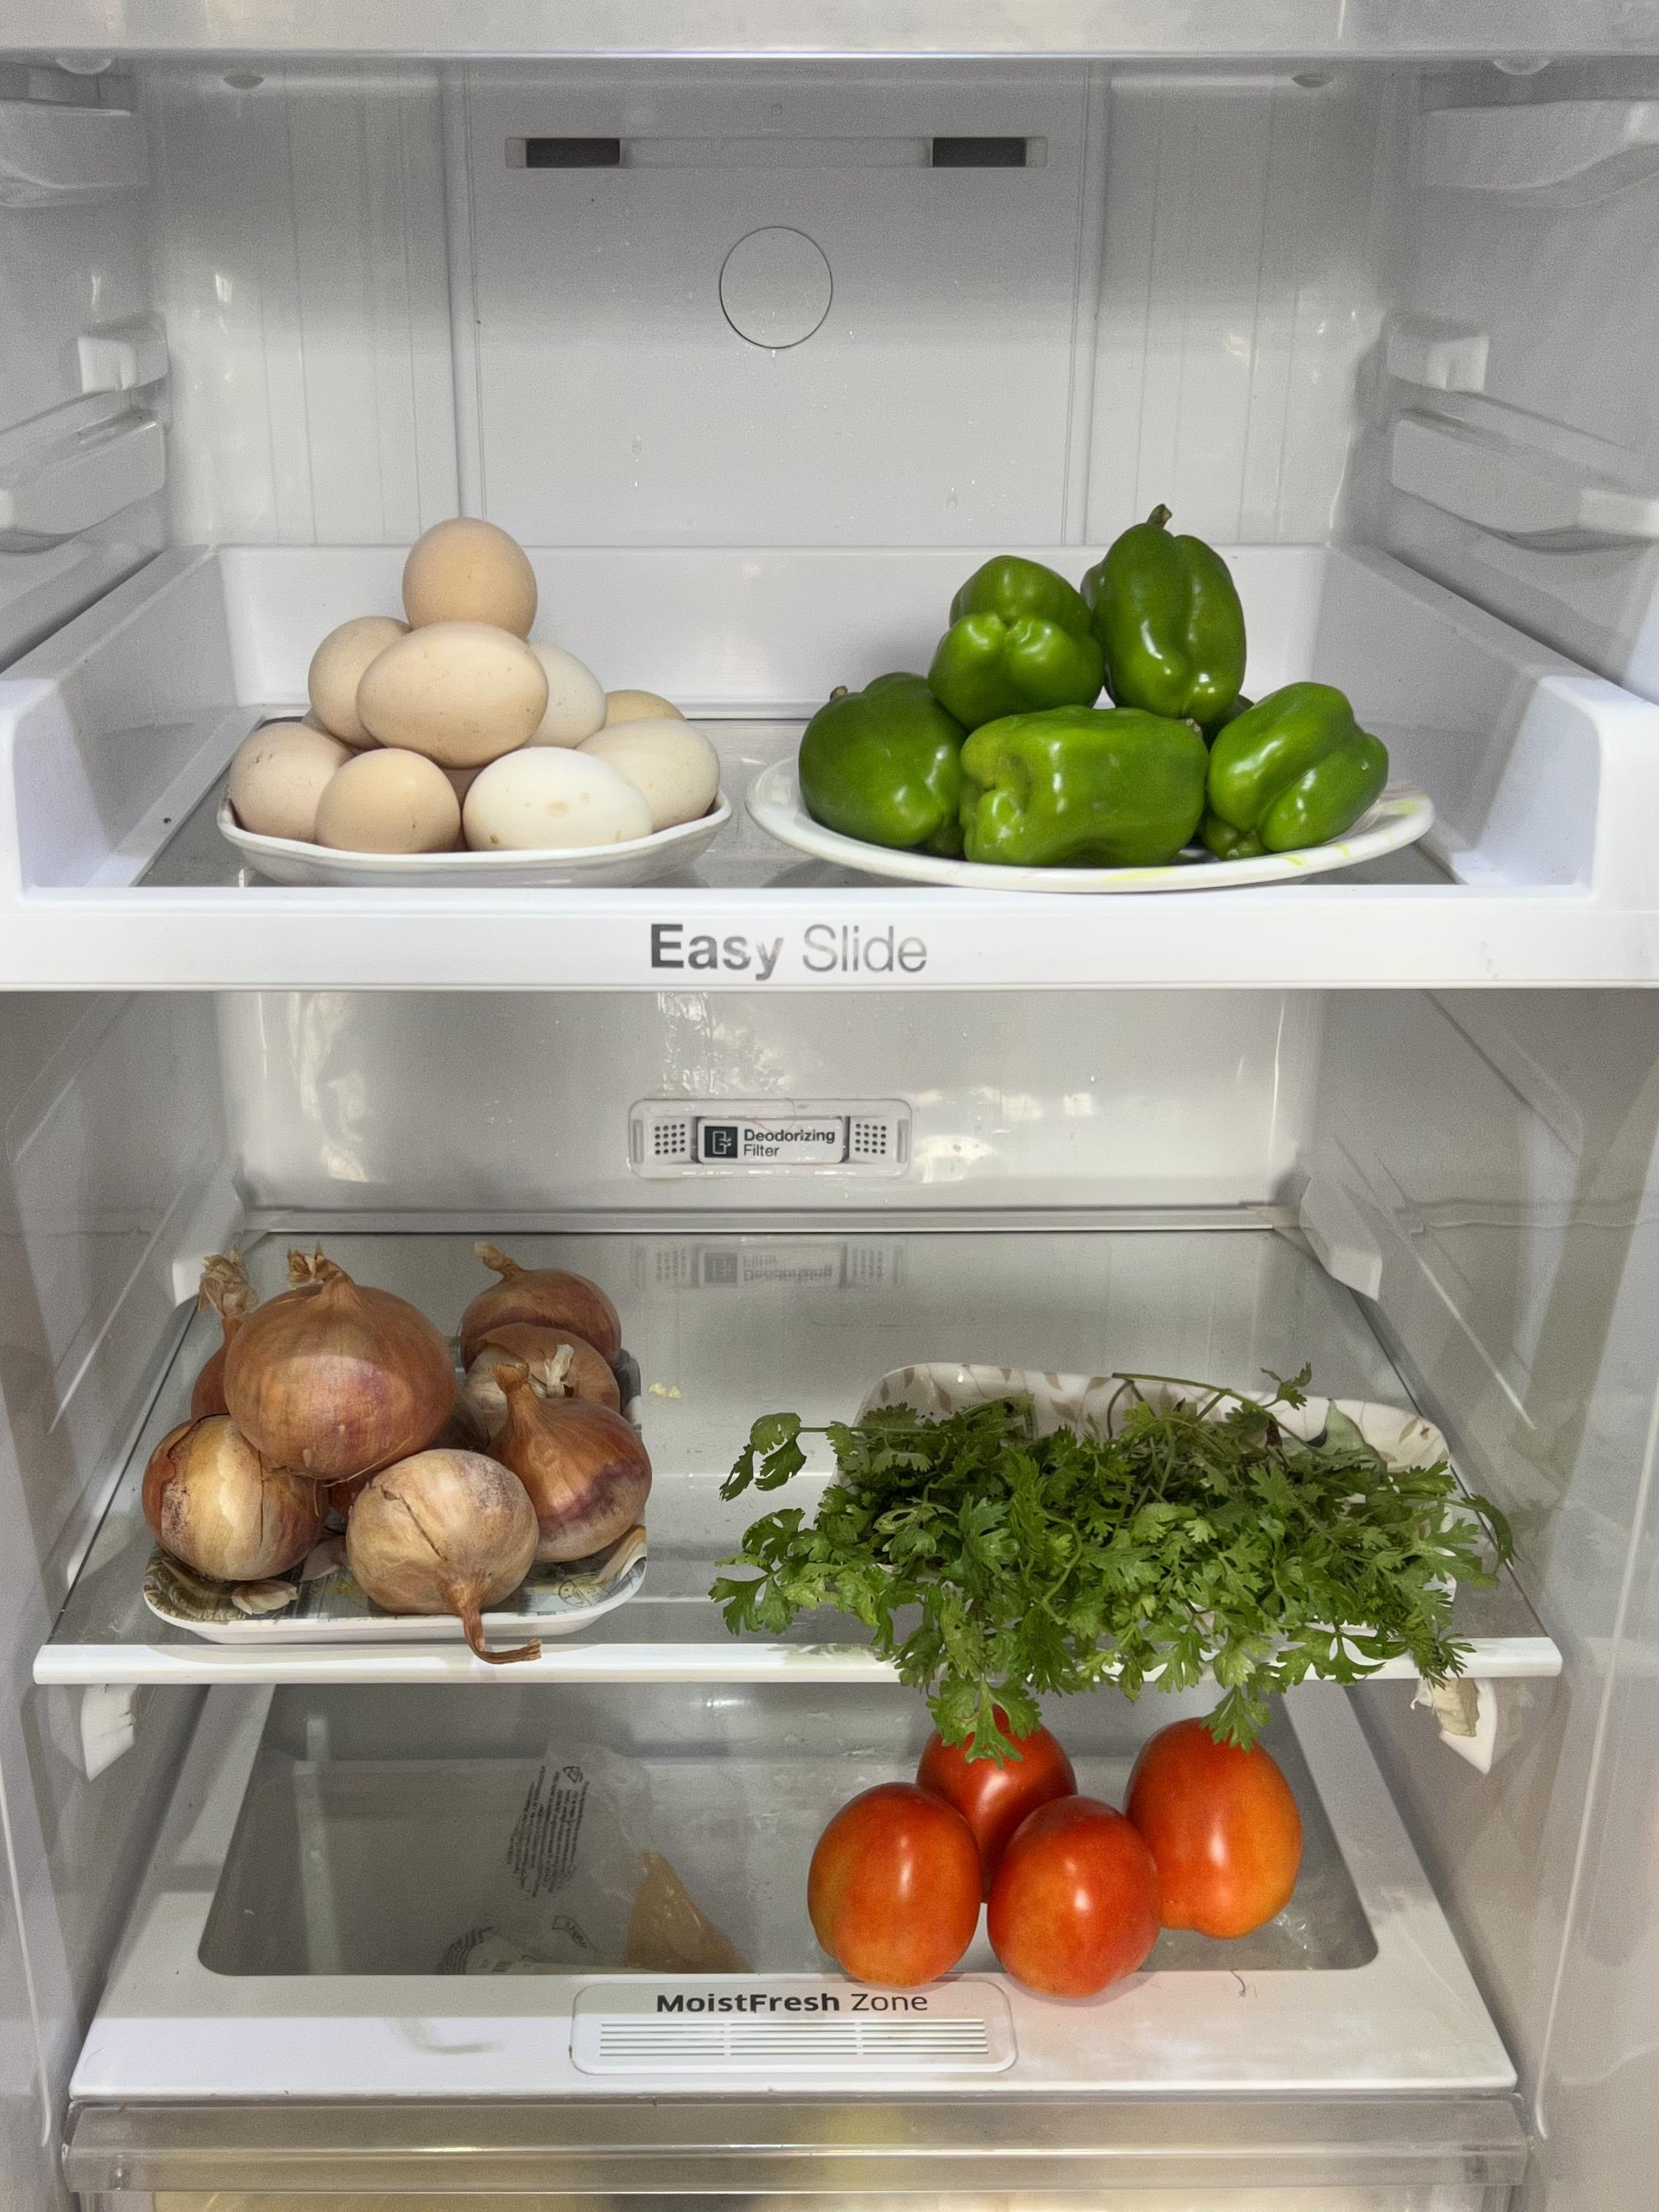capsicum: (802, 512, 1399, 862)
coriander: (734, 1393, 1497, 1705)
egg: (223, 512, 718, 866)
onion: (141, 1254, 655, 1609)
tomato: (810, 1719, 1307, 1994)
